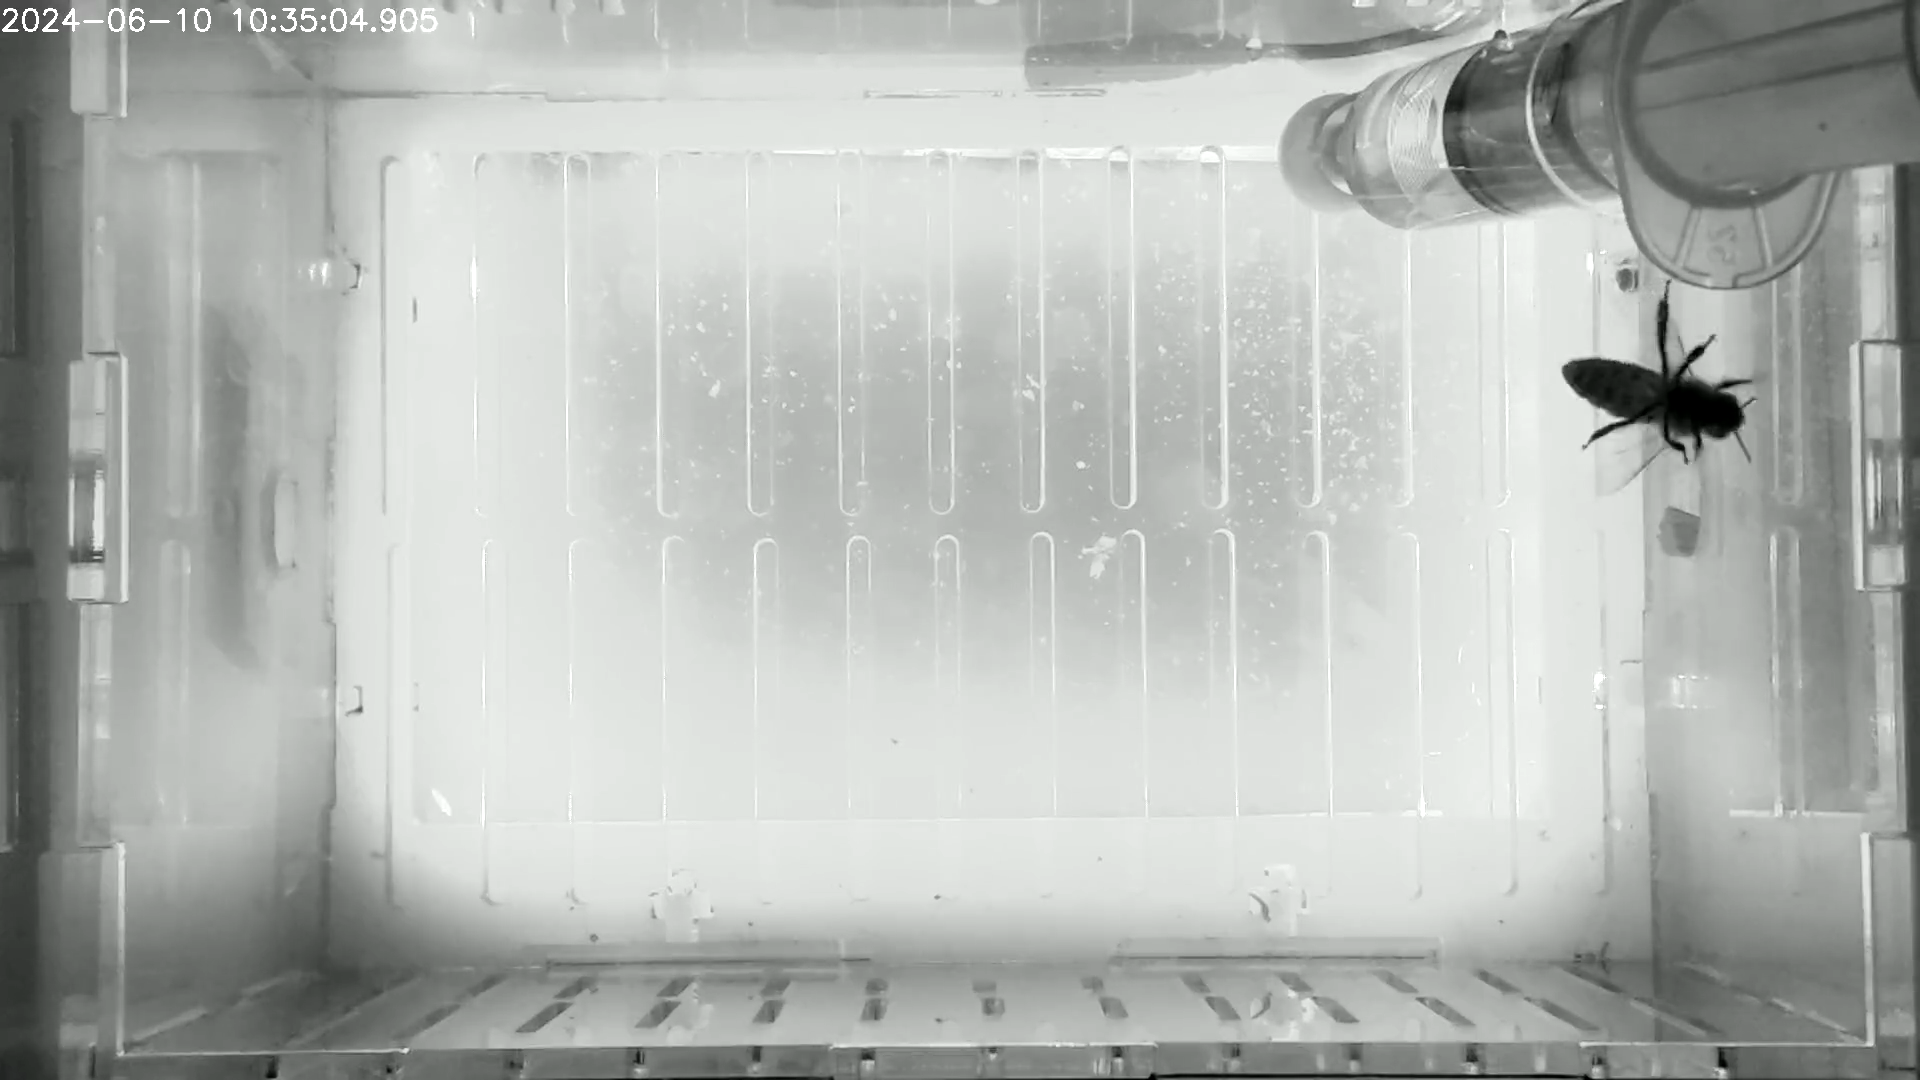bee: (1548, 274, 1766, 493)
feeder: (1338, 17, 1586, 237)
